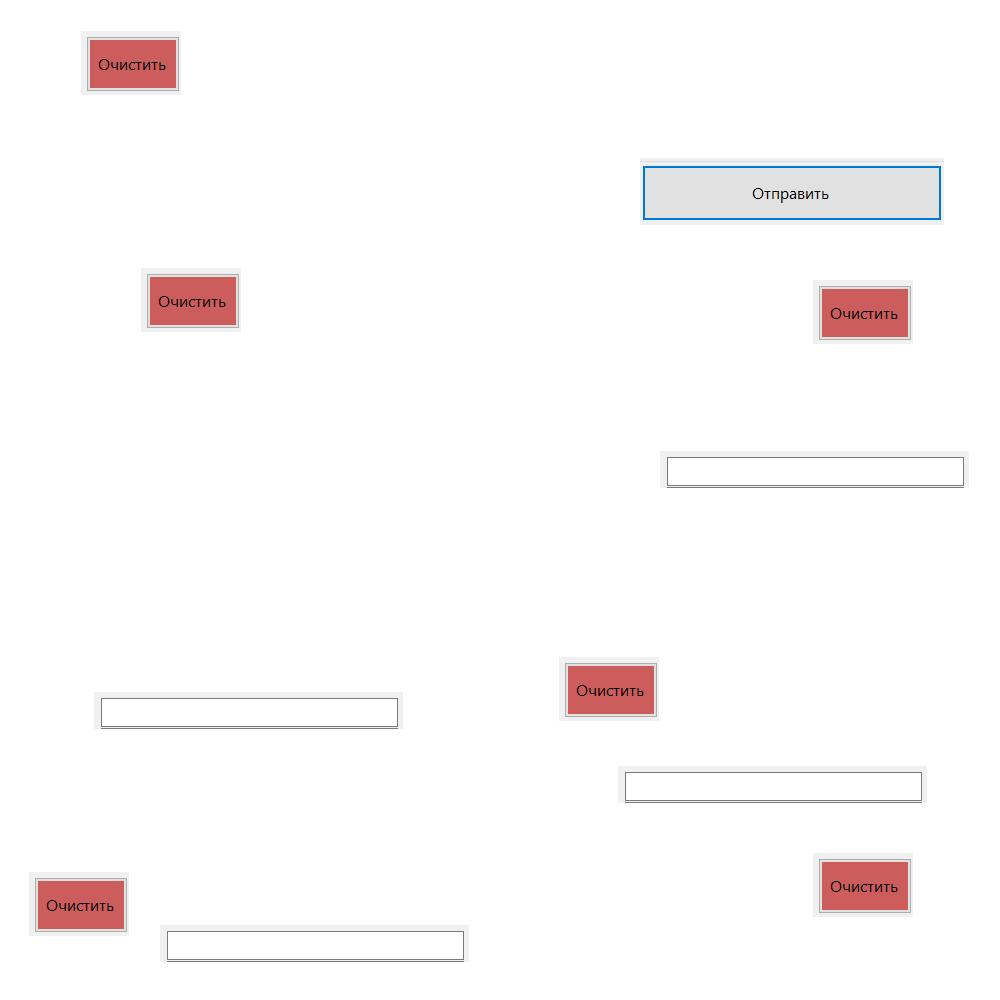Button: (640, 158, 944, 225), (29, 872, 129, 936), (81, 31, 181, 95), (813, 280, 913, 344), (813, 853, 913, 917), (141, 268, 241, 332), (559, 657, 659, 721)
EditText-: (618, 766, 927, 803), (660, 451, 969, 488), (160, 925, 469, 962), (94, 692, 403, 729)
